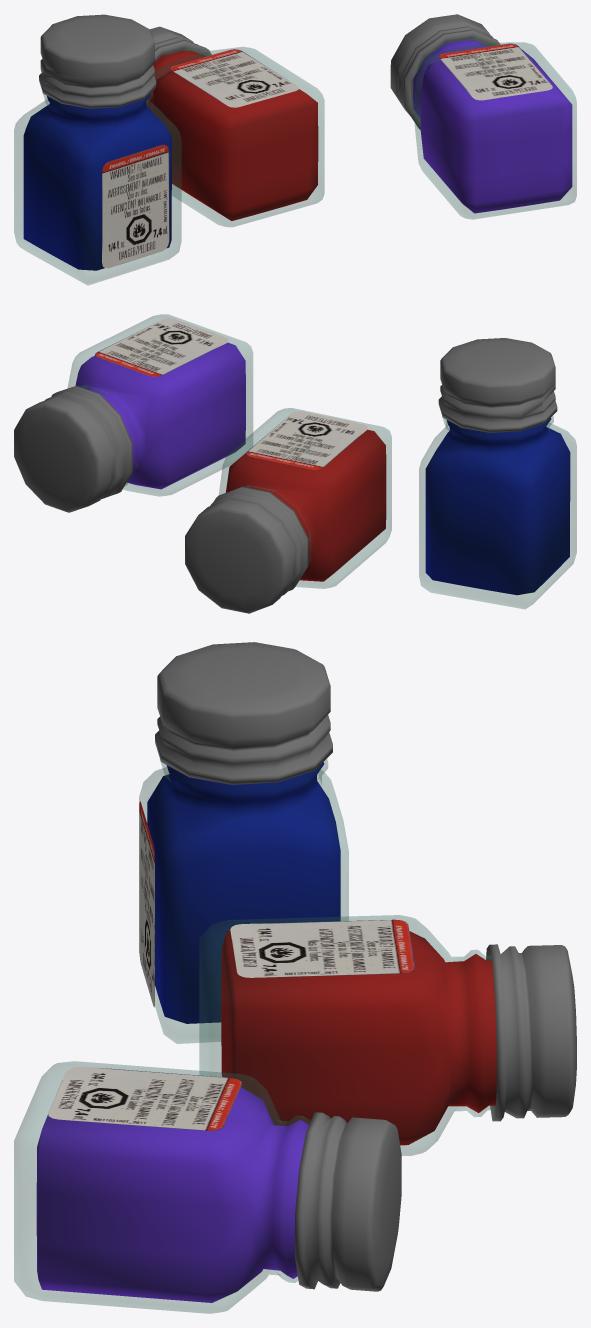
File: PaintBottles.glb
3 views of the same model, one above another, from view 1: azimuth 30°, elevation 25°; view 2: azimuth 150°, elevation 25°; view 3: azimuth 270°, elevation 25° (orthographic). The views are drawn at different scales.
Visible parts, largest first — view 1: PaintBottle_Blue.001, PaintBottle_Red.003, PaintBottle_Red.002; view 2: PaintBottle_Blue.001, PaintBottle_Red.003, PaintBottle_Red.002; view 3: PaintBottle_Red.003, PaintBottle_Red.002, PaintBottle_Blue.001.
Part boxes in pixels (x1=…): PaintBottle_Blue.001: x1=14, y1=14, x2=181, y2=285; PaintBottle_Red.003: x1=390, y1=14, x2=576, y2=219; PaintBottle_Red.002: x1=146, y1=26, x2=324, y2=226; PaintBottle_Blue.001: x1=419, y1=338, x2=576, y2=609; PaintBottle_Red.003: x1=14, y1=314, x2=252, y2=512; PaintBottle_Red.002: x1=185, y1=408, x2=391, y2=613; PaintBottle_Red.003: x1=14, y1=1061, x2=401, y2=1313; PaintBottle_Red.002: x1=199, y1=915, x2=576, y2=1155; PaintBottle_Blue.001: x1=139, y1=642, x2=348, y2=1043.
Size of the model in its own units: 12.29 by 5.21 by 7.93.
Materials: 6 (1 with a texture image).
